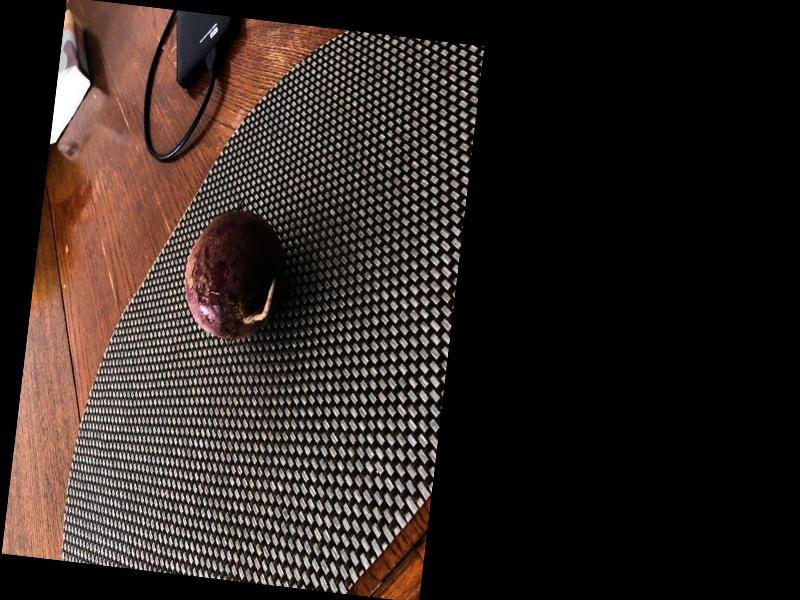Beet: (178, 204, 290, 344)
